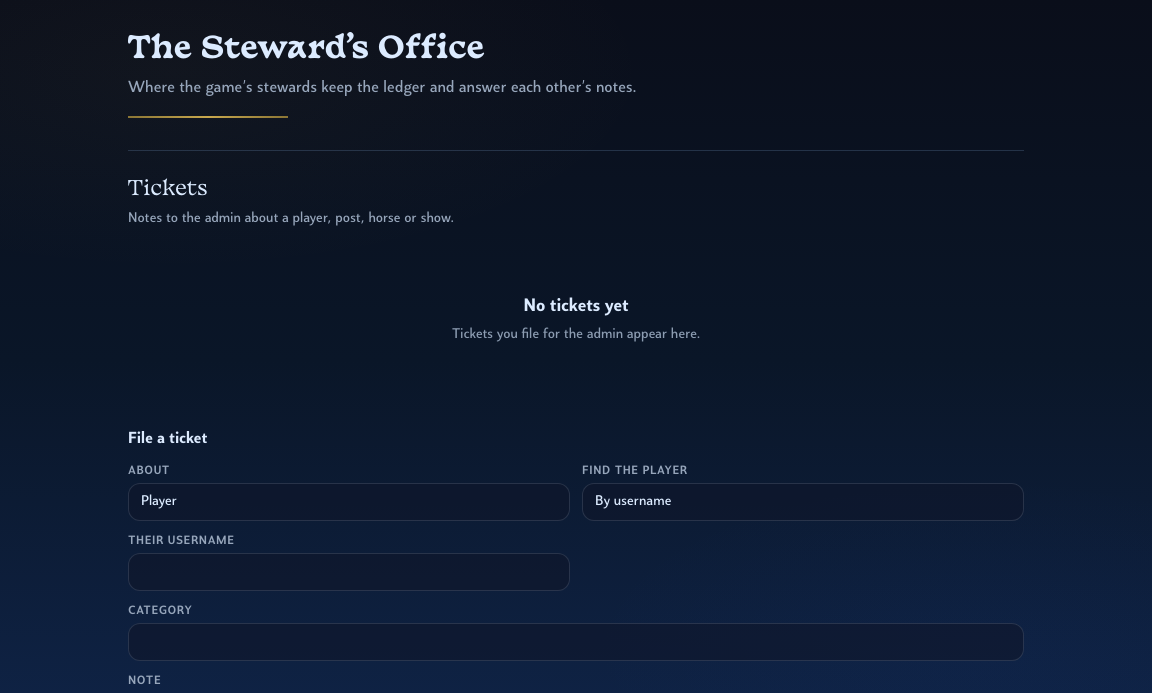
Test case: The Steward's Office › tickets: a failed filing keeps what was typed and explains at the button
The width and height of the screenshot is (1152, 693).
Type "Mara" into the field labelled "Their username" at (349, 572), box [128,553,570,591]
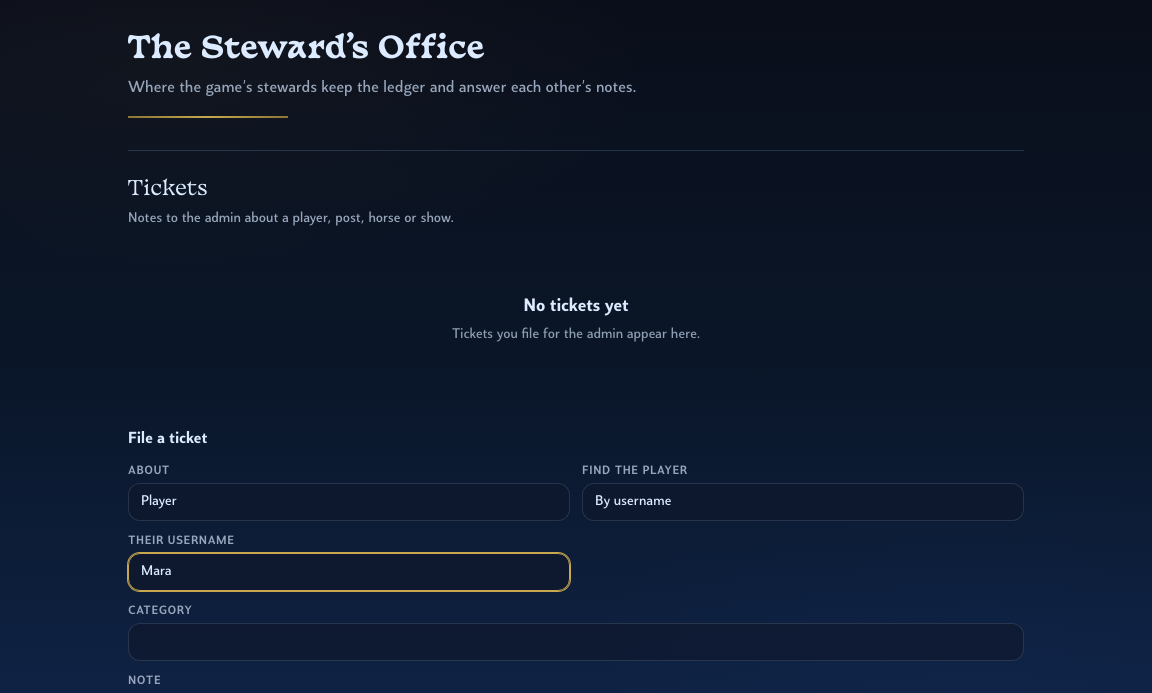
Type "Spam" into the field labelled "Category" at (576, 642), box [128,623,1024,661]
(page scrolled)
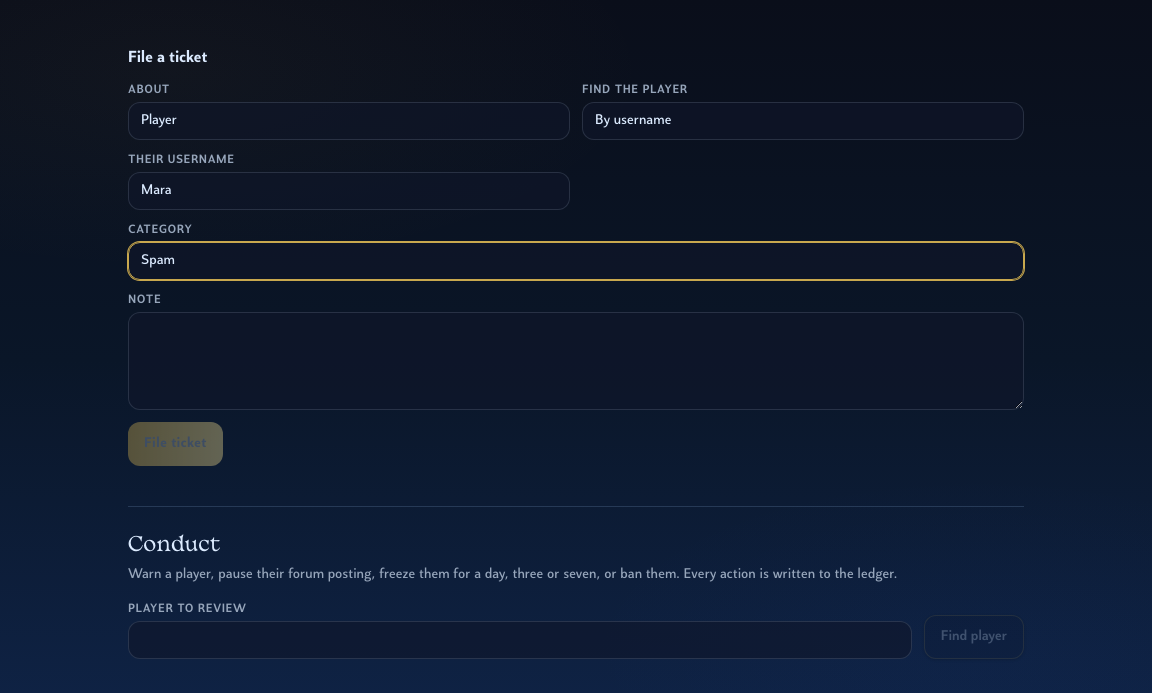
Type "Selling coins" into the text box labelled "Note" at (576, 361), box [128,312,1024,410]
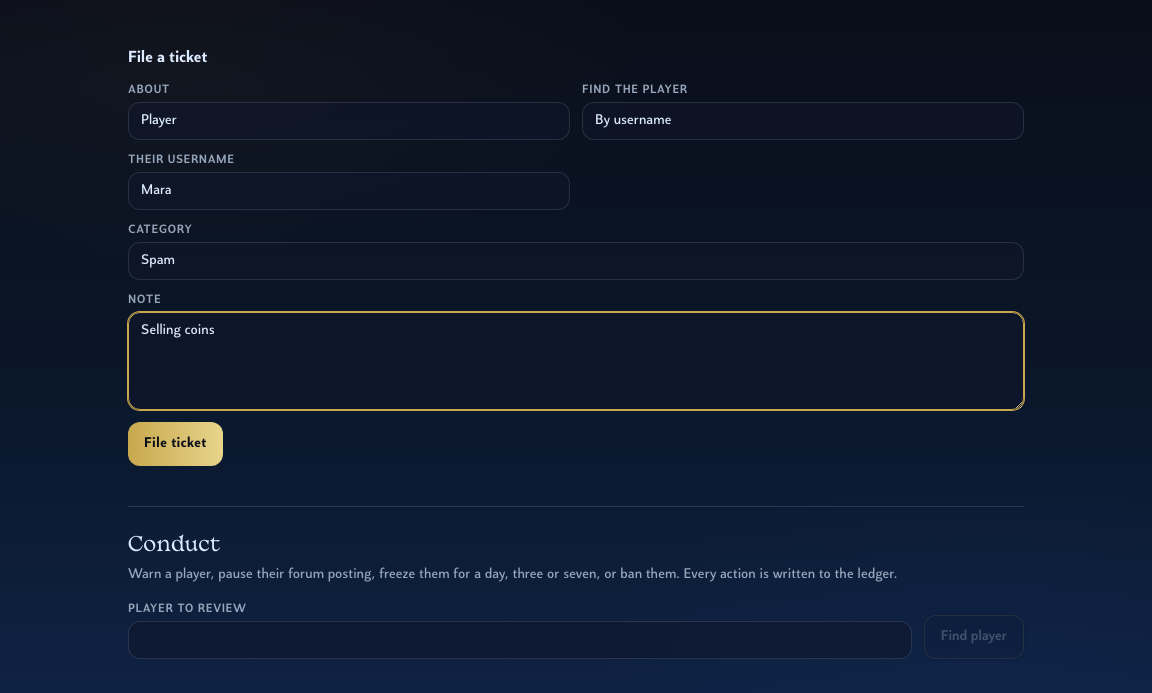
Click the button "File ticket" at (175, 444), box [128,422,223,466]
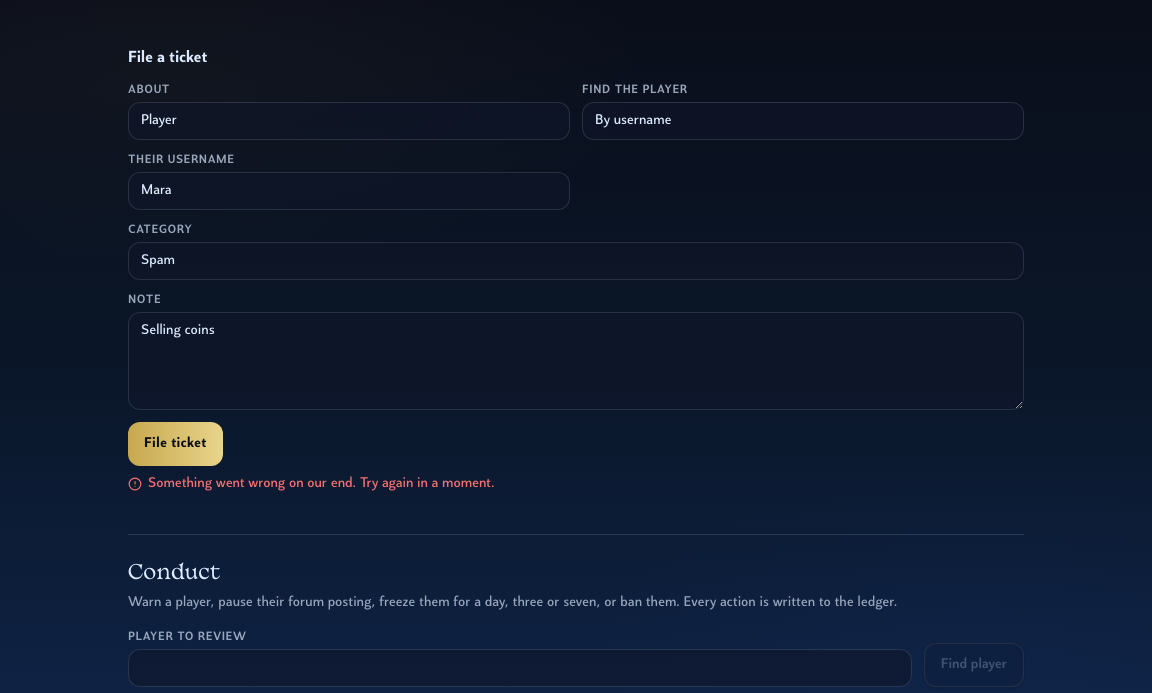
expect the message shows "Something went wrong": met, box [148,476,494,491]
